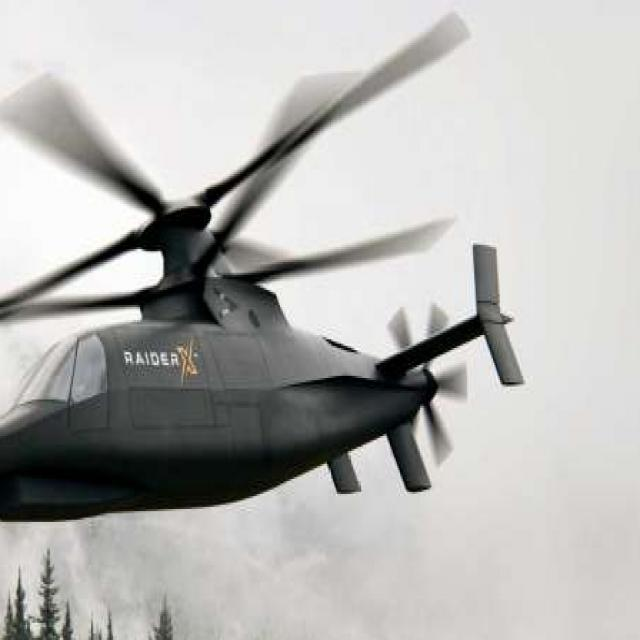helicopter: (1, 1, 537, 538)
